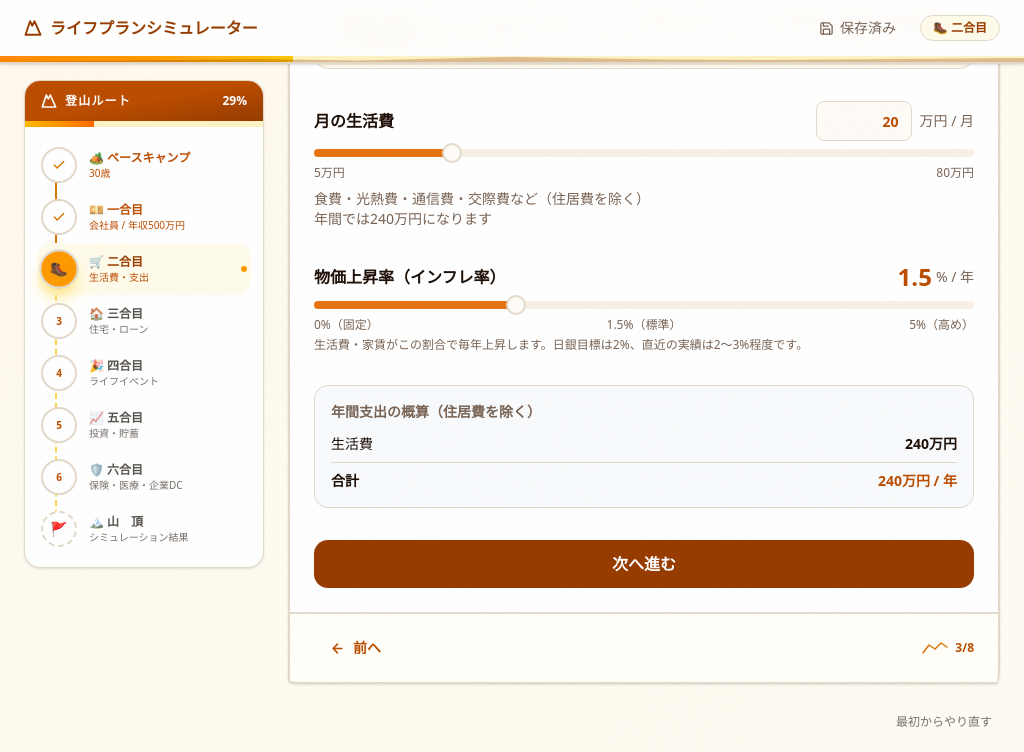
Scenario: jumping between steps › 前へ goes back one step
(page scrolled)
Click the button "前へ": (356,648) x1=314 y1=630 x2=397 y2=666
(page scrolled)
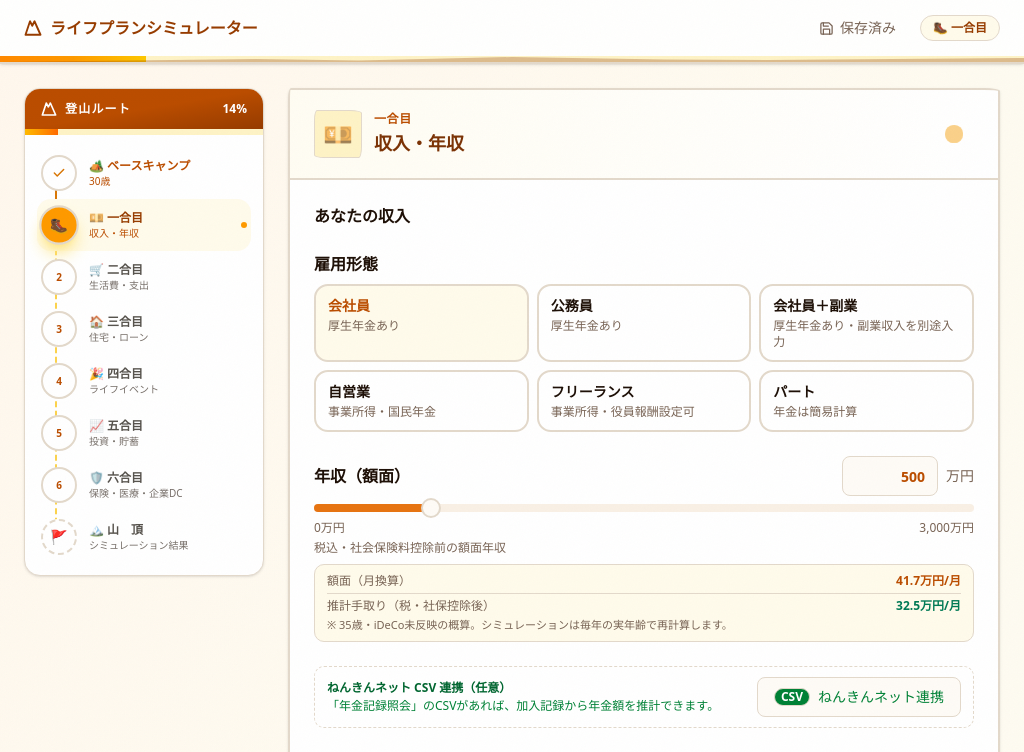
Check: the heading "収入・年収" is shown, box x1=374 y1=131 x2=464 y2=155
